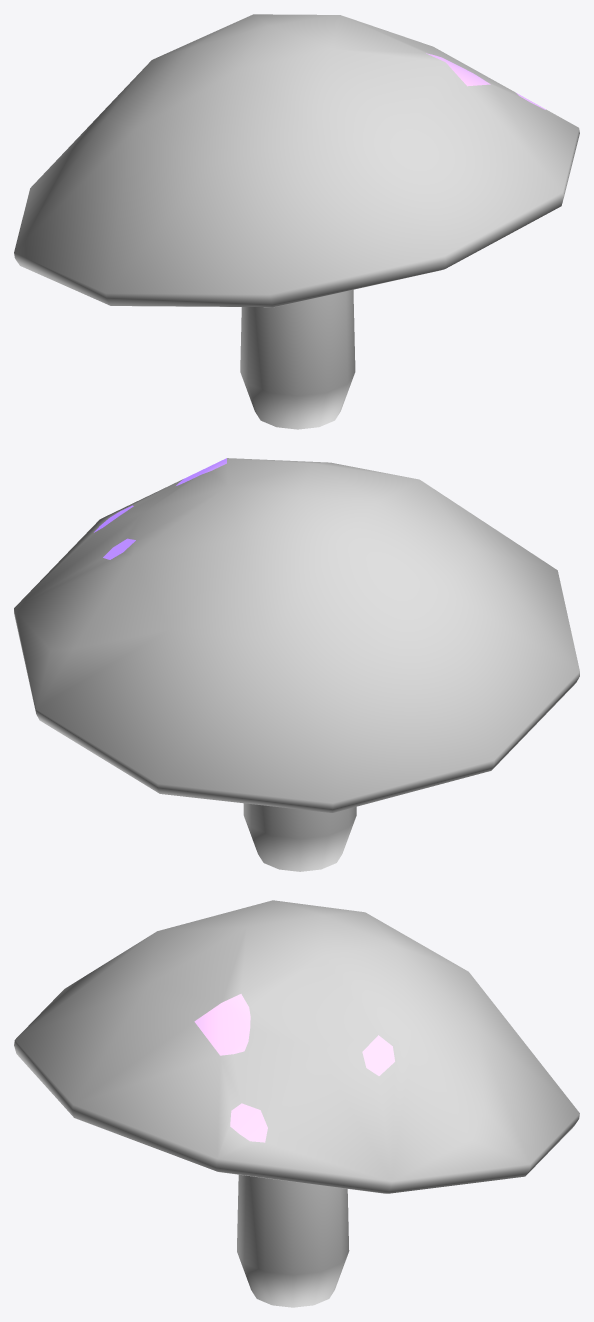
The model's file is mushroomgreen8.fbx.
3 renders of one model, top to bottom at view 1: azimuth 30°, elevation 25°; view 2: azimuth 150°, elevation 25°; view 3: azimuth 270°, elevation 25°, orthographic. The views are drawn at different scales.
Parts seen in each view (by area): view 1: Icosphere.002, Icosphere.009; view 2: Icosphere.002, Icosphere.009; view 3: Icosphere.002, Icosphere.009.
Part boxes in pixels (<box>): Icosphere.002: <box>14,14,579,429</box>; Icosphere.009: <box>426,53,545,109</box>; Icosphere.002: <box>14,458,579,871</box>; Icosphere.009: <box>94,458,226,559</box>; Icosphere.002: <box>14,900,579,1307</box>; Icosphere.009: <box>194,994,394,1142</box>.
Size of the model in its own units: 1300 by 970 by 1352.
